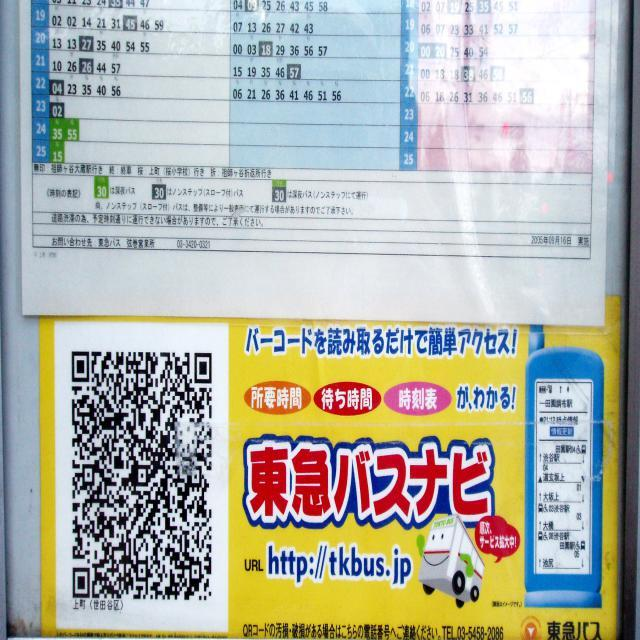qrcode: (73, 352, 213, 601)
